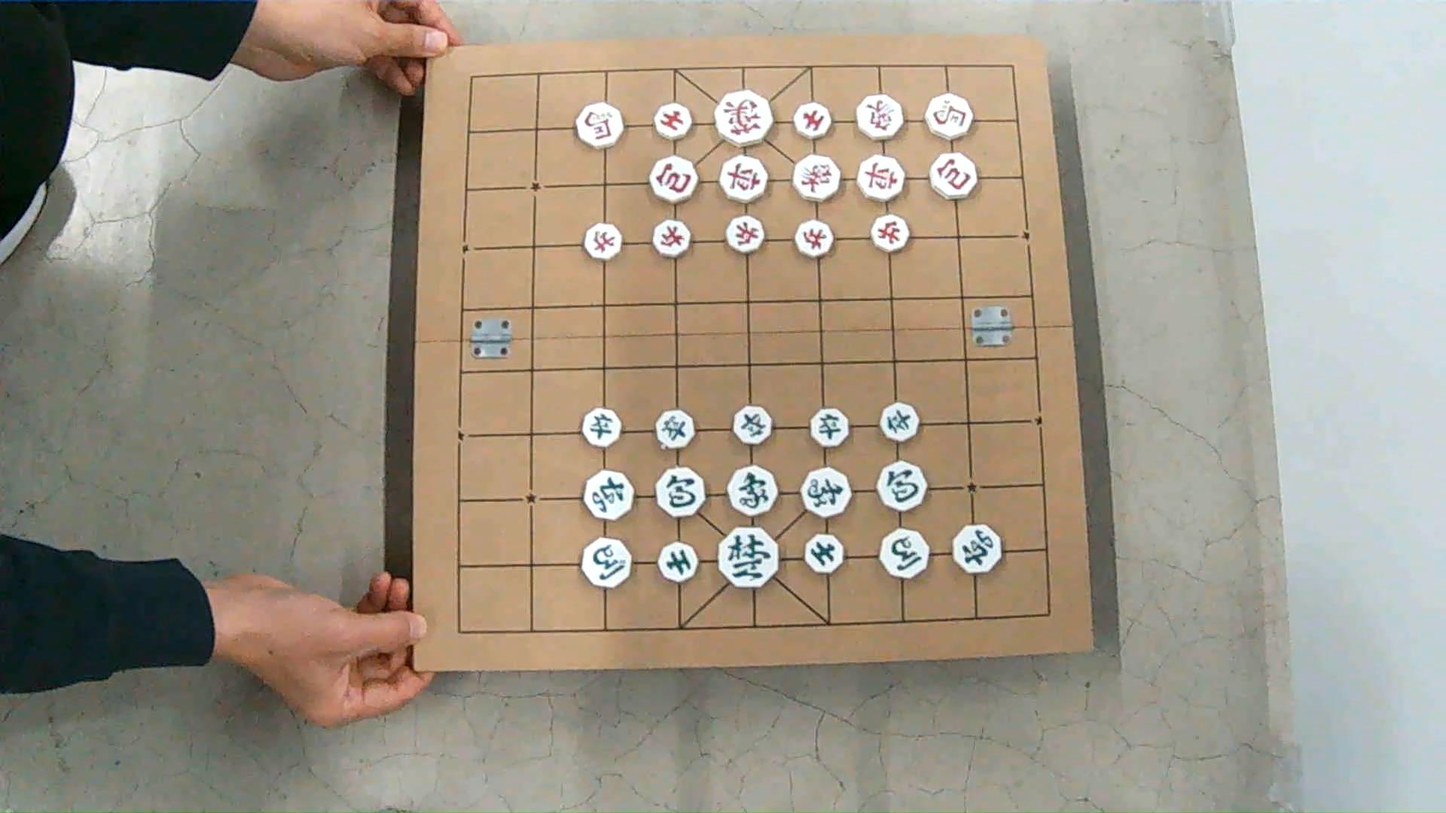cha_green: (583, 470, 633, 520), (952, 525, 1001, 574)
cha_red: (857, 155, 904, 202), (719, 156, 767, 202)
jol_green: (582, 407, 621, 447), (810, 408, 849, 447), (655, 410, 694, 449), (880, 403, 918, 442), (733, 406, 771, 445)
jol_red: (725, 215, 764, 253), (652, 220, 691, 257), (871, 215, 909, 252), (584, 223, 621, 260), (795, 220, 832, 257)
ma_green: (581, 538, 630, 587), (880, 529, 928, 578)
ma_red: (925, 93, 972, 140), (575, 103, 623, 148)
po_green: (877, 461, 926, 511), (656, 467, 704, 517)
po_red: (648, 156, 697, 203), (930, 153, 977, 199)
sa_green: (805, 534, 844, 574), (659, 543, 697, 582)
sa_red: (654, 102, 692, 140), (794, 102, 831, 139)
sang_green: (801, 467, 850, 518), (728, 465, 776, 516)
sang_red: (793, 154, 840, 201), (857, 95, 903, 140)
wang_green: (718, 527, 778, 588)
wang_red: (715, 90, 773, 146)
